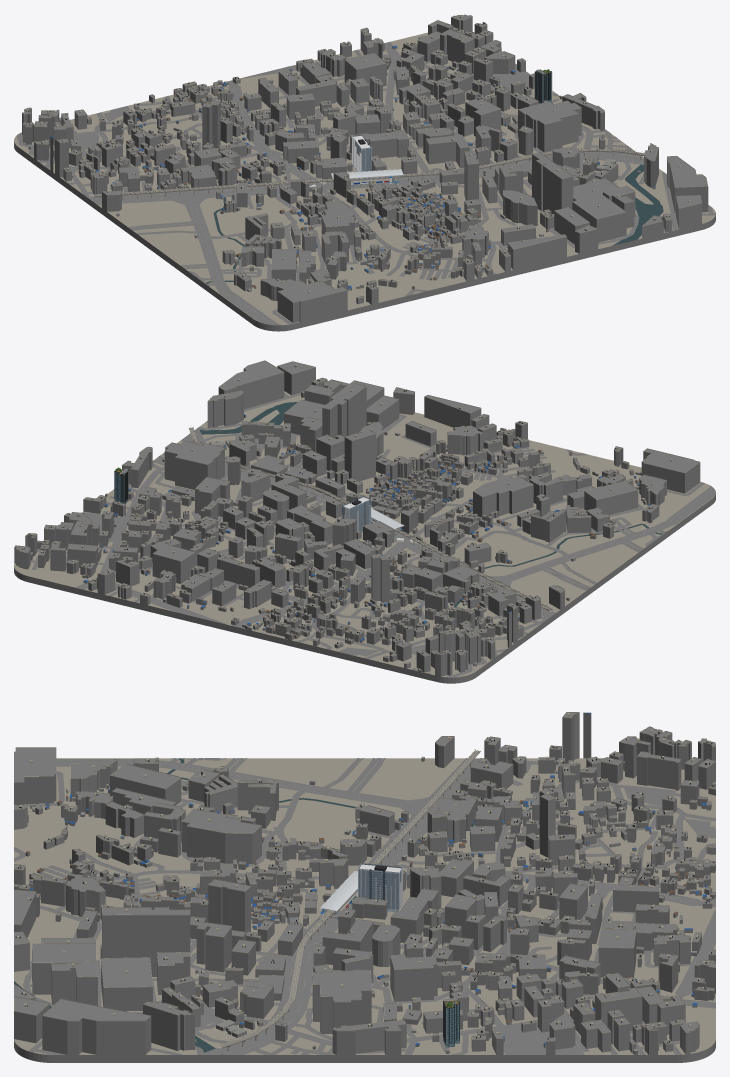
The model's file is privilon.glb.
The picture shows the model from 3 angles, top to bottom: view 1: azimuth 30°, elevation 25°; view 2: azimuth 150°, elevation 25°; view 3: azimuth 270°, elevation 25°; orthographic projection. The views are drawn at different scales.
Parts seen in each view (by area): view 1: context_10, context_11, context_01, context_00, ground_01, ground_10, ground_00, plinth, ground_11, rooftops_00, metro, stations (+2 smaller); view 2: context_11, context_10, context_01, context_00, ground_01, ground_10, ground_00, plinth, ground_11, rooftops_00, metro, opt_privilon; view 3: context_10, context_11, context_01, context_00, ground_01, ground_10, ground_11, ground_00, plinth, rooftops_00, metro, opt_privilon (+2 smaller).
Boxes of the visible parts, box(x1,y1,x2,y2) form: context_10: box(373, 99, 708, 271); context_11: box(233, 14, 597, 170); context_01: box(22, 78, 352, 216); context_00: box(194, 172, 492, 322); ground_01: box(14, 32, 427, 318); ground_10: box(293, 67, 715, 323); ground_00: box(136, 69, 495, 325); plinth: box(14, 142, 715, 331); ground_11: box(240, 41, 588, 310); rooftops_00: box(25, 16, 690, 293); metro: box(93, 147, 644, 199); stations: box(331, 169, 403, 186); context_11: box(14, 452, 341, 625); context_10: box(135, 360, 489, 518); context_01: box(235, 518, 569, 676); context_00: box(384, 421, 700, 563); ground_01: box(29, 499, 711, 677); ground_10: box(33, 391, 700, 557); ground_00: box(33, 438, 715, 585); plinth: box(14, 494, 715, 683); ground_11: box(14, 471, 691, 625); rooftops_00: box(22, 365, 672, 653); metro: box(188, 426, 552, 611); opt_privilon: box(341, 496, 371, 532); context_10: box(14, 879, 380, 1054); context_11: box(348, 874, 715, 1054); context_01: box(360, 712, 715, 907); context_00: box(14, 747, 367, 906); ground_01: box(56, 758, 715, 1038); ground_10: box(14, 792, 675, 1054); ground_11: box(185, 815, 715, 1054); ground_00: box(14, 758, 672, 1052); plinth: box(14, 1040, 715, 1062); rooftops_00: box(15, 713, 714, 1043); metro: box(218, 749, 480, 1051); opt_privilon: box(358, 862, 402, 911).
Size of the model in its own units: 1103 by 124 by 1100.
